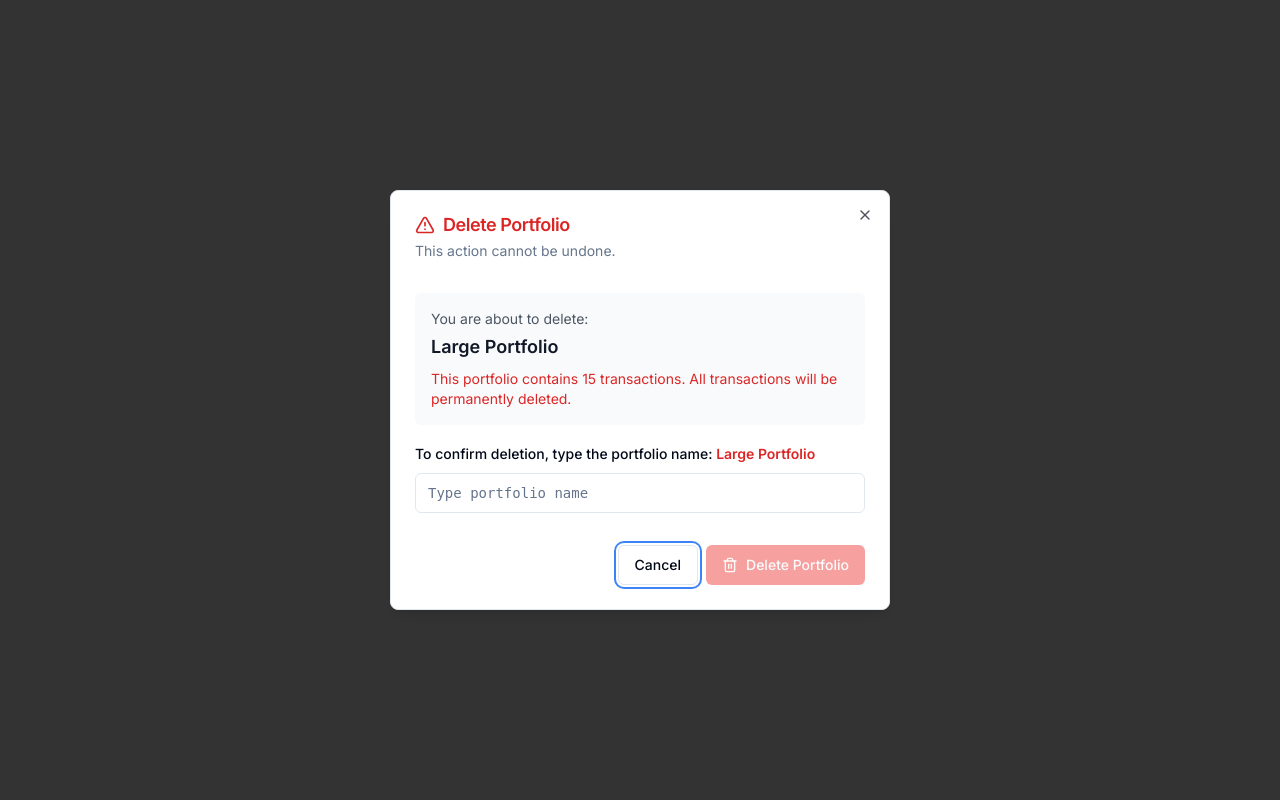
it: DeletePortfolioDialog › should enable delete after typing correct portfolio name
The width and height of the screenshot is (1280, 800).
Expected: the button "Delete Portfolio" is disabled, [706,545,865,585]
# Type incorrect name
In the field with placeholder "Type portfolio name": x=640, y=493 [415,473,865,513], type "Wrong Name"
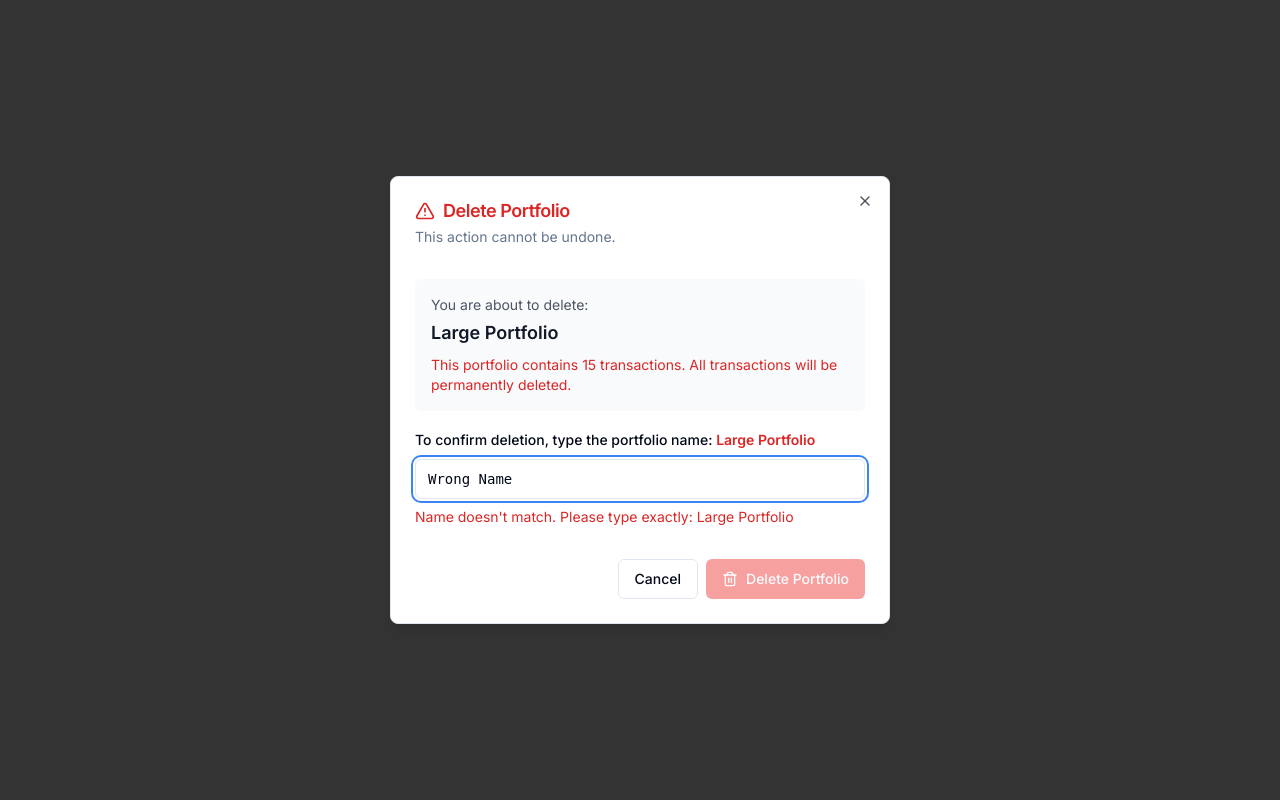
Expected: the button "Delete Portfolio" is disabled, [706,559,865,599]
# Clear and type correct name
Clear the field with placeholder "Type portfolio name": x=640, y=479 [415,459,865,499]
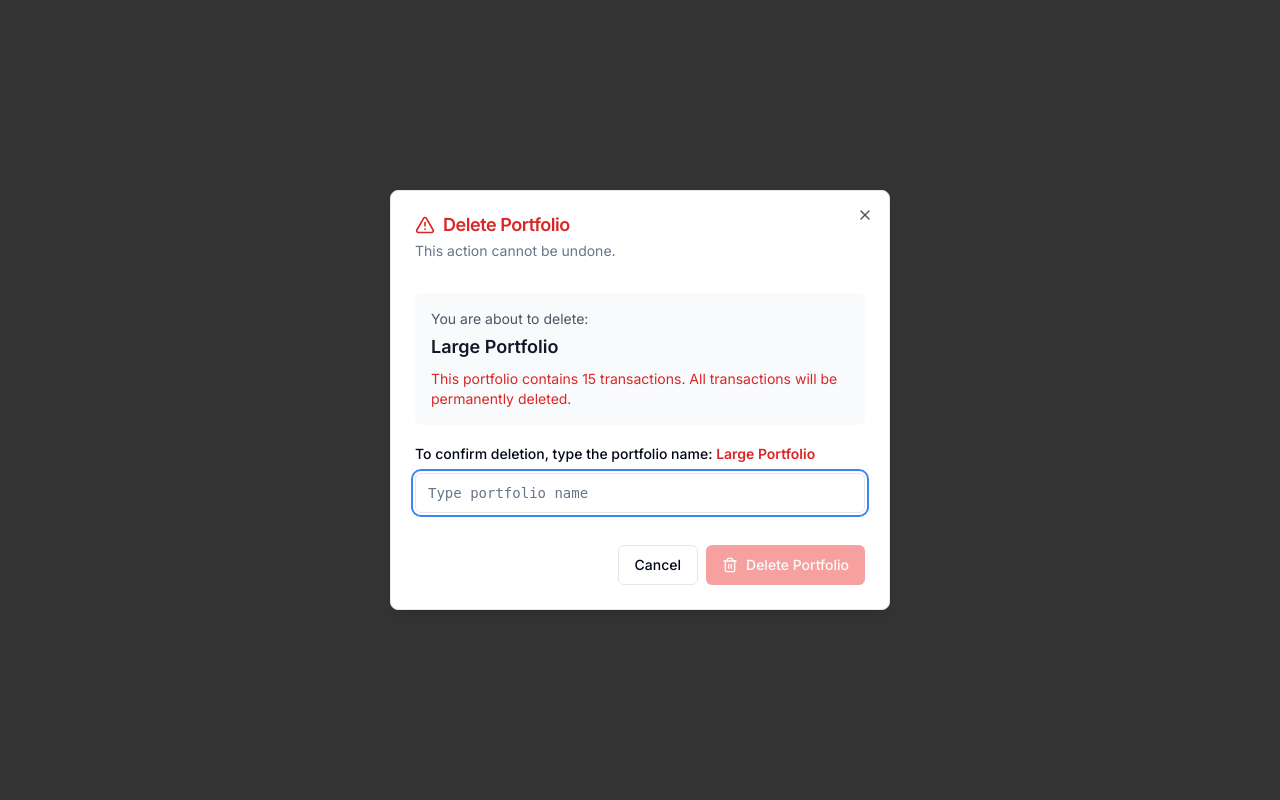
In the field with placeholder "Type portfolio name": x=640, y=493 [415,473,865,513], type "Large Portfolio"
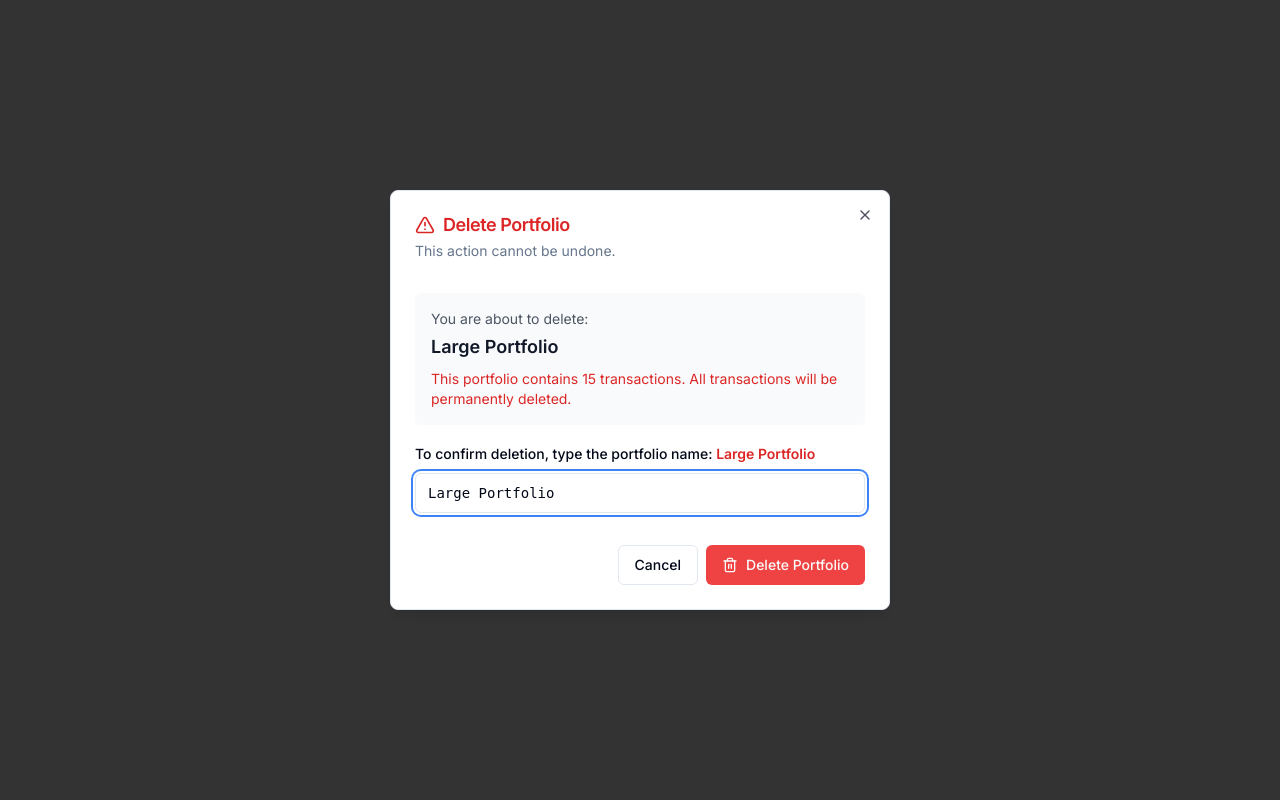
Expected: the button "Delete Portfolio" is enabled, [706,545,865,585]
